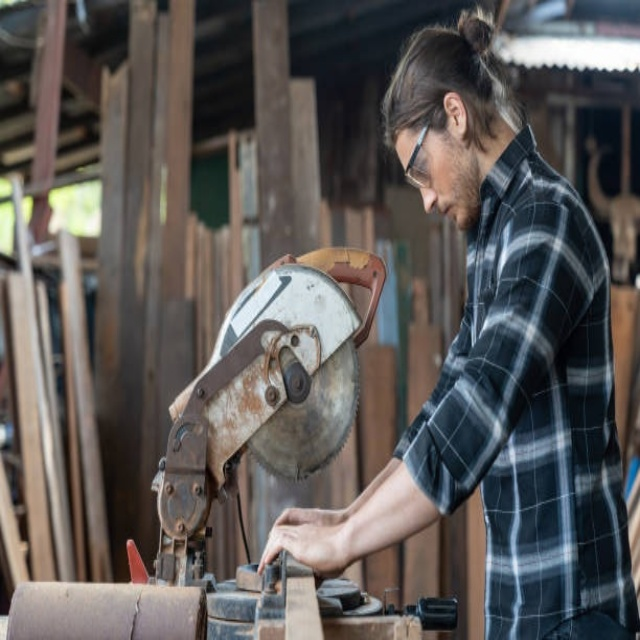Gafas: (404, 120, 434, 193)
Sin_guantes: (256, 506, 337, 579)
Sin_mascara: (437, 196, 466, 227)
